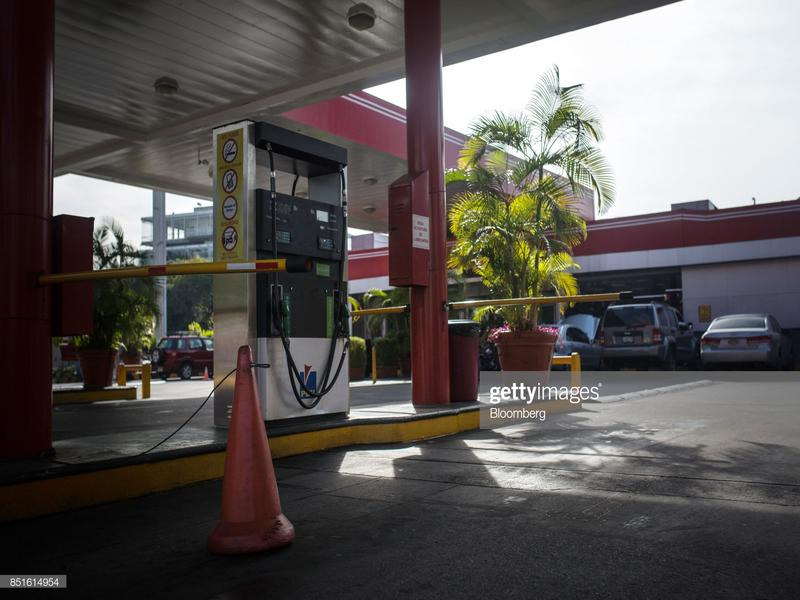Cone: (206, 345, 297, 551)
